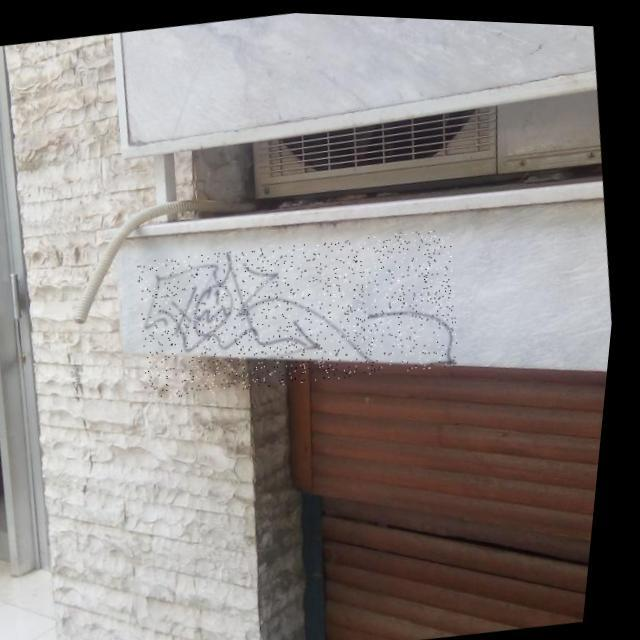-: (132, 212, 476, 410)
